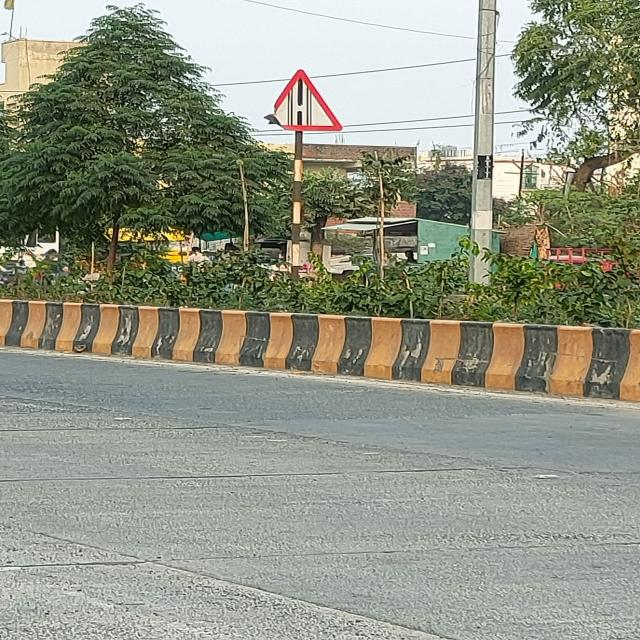GAP_IN_MEDIAN: (268, 68, 340, 130)
